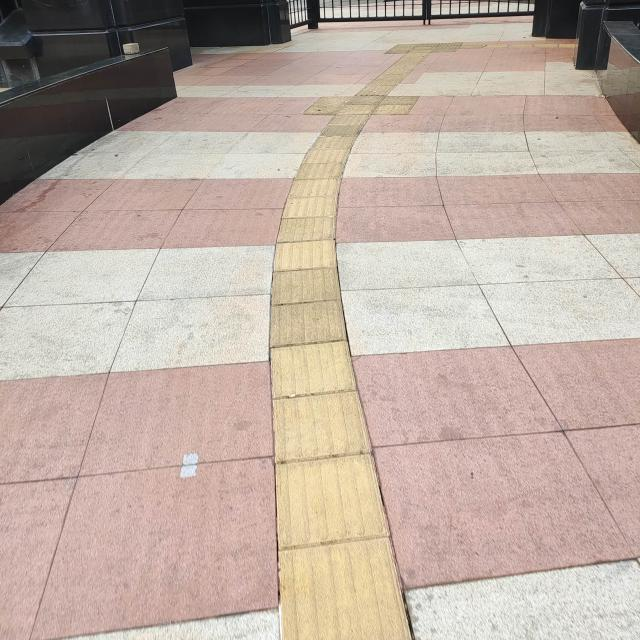lurus: (258, 214, 409, 640)
